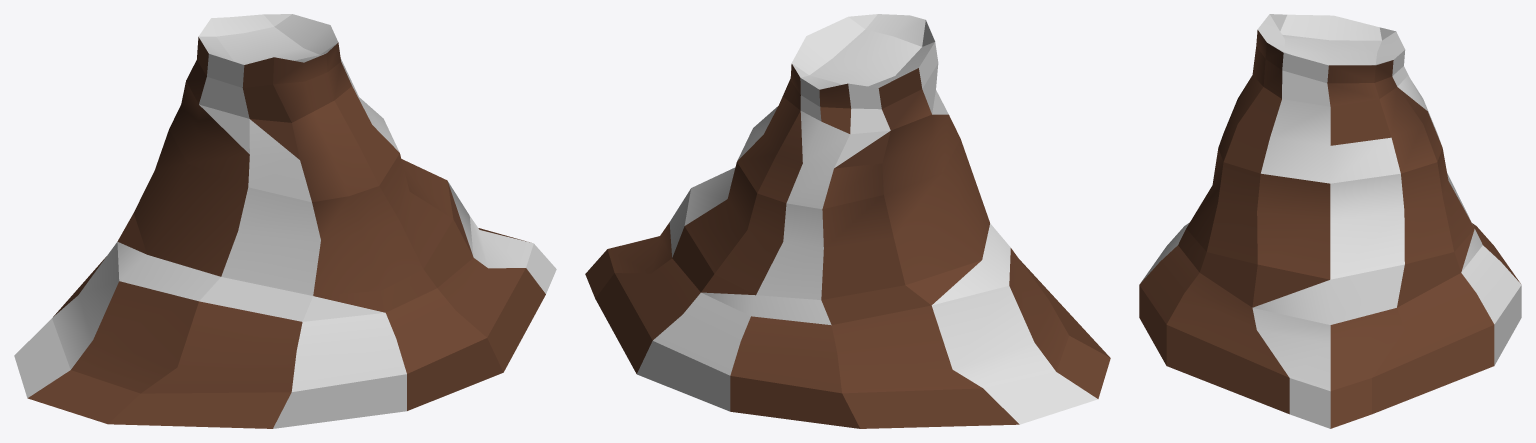
The model's file is volcano_02_active.fbx.
3 views of the same model, side by side, from view 1: azimuth 30°, elevation 25°; view 2: azimuth 150°, elevation 25°; view 3: azimuth 270°, elevation 25° (orthographic). The views are drawn at different scales.
Parts seen in each view (by area): view 1: volcano_02_body, volcano_02_lava; view 2: volcano_02_body, volcano_02_lava; view 3: volcano_02_body, volcano_02_lava.
Part boxes in pixels (bbox=[...]): volcano_02_body: bbox=[27, 37, 545, 428]; volcano_02_lava: bbox=[14, 14, 556, 428]; volcano_02_body: bbox=[585, 64, 1110, 428]; volcano_02_lava: bbox=[637, 14, 1097, 424]; volcano_02_body: bbox=[1139, 30, 1520, 428]; volcano_02_lava: bbox=[1140, 14, 1521, 428].
Size of the model in its own units: 6250 by 3548 by 4421.
